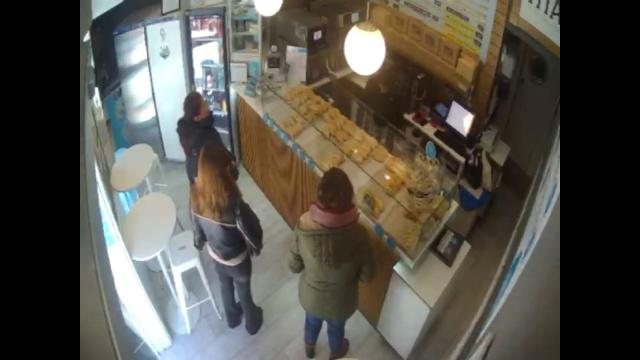cliente: (288, 168, 377, 360), (190, 142, 263, 334), (176, 91, 224, 184)
empleado: (364, 67, 404, 131)
